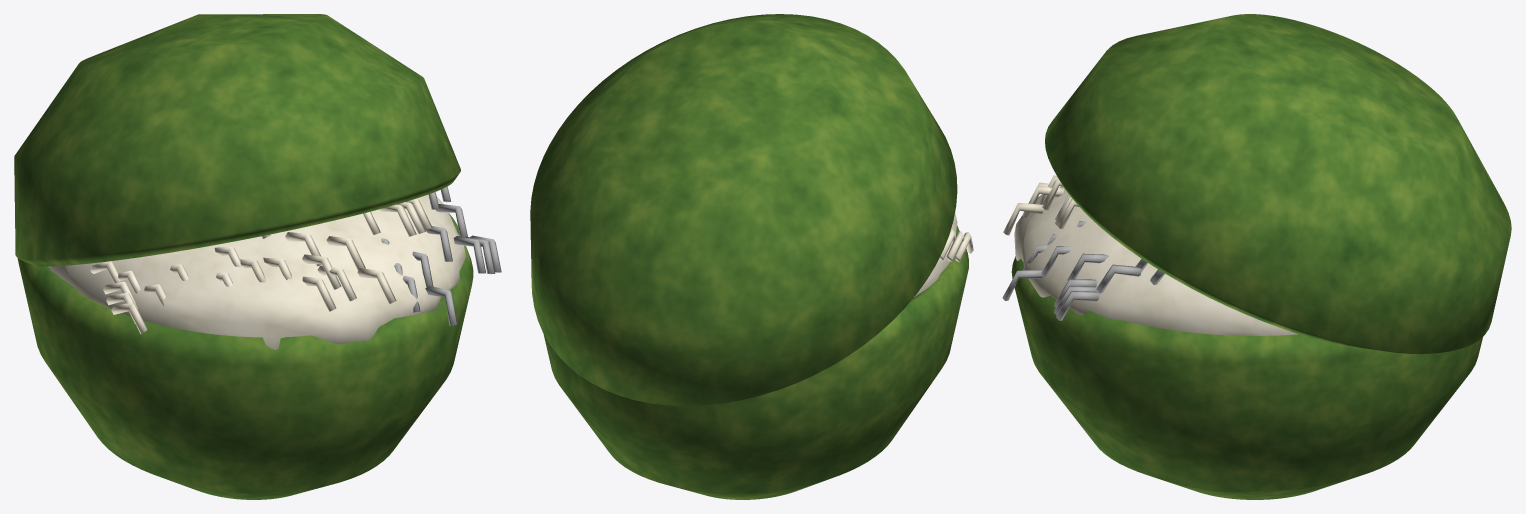
The model's file is dulce_limon_relleno.gltf.
3 views of the same model, side by side, from view 1: azimuth 30°, elevation 25°; view 2: azimuth 150°, elevation 25°; view 3: azimuth 270°, elevation 25° (orthographic). The views are drawn at different scales.
Visible parts, largest first — view 1: cascara_superior, cascara_inferior, relleno_coco, relleno_coco_fibras, relleno_coco_fibras.001; view 2: cascara_superior, cascara_inferior, relleno_coco_fibras, relleno_coco; view 3: cascara_superior, cascara_inferior, relleno_coco, relleno_coco_fibras.001, relleno_coco_fibras.
Part boxes in pixels (bbox=[...]): cascara_superior: bbox=[14, 14, 460, 266]; cascara_inferior: bbox=[17, 213, 473, 499]; relleno_coco: bbox=[48, 194, 465, 349]; relleno_coco_fibras: bbox=[90, 198, 432, 333]; relleno_coco_fibras.001: bbox=[381, 186, 501, 325]; cascara_superior: bbox=[530, 14, 957, 405]; cascara_inferior: bbox=[543, 225, 968, 499]; relleno_coco_fibras: bbox=[940, 223, 973, 262]; relleno_coco: bbox=[914, 212, 957, 297]; cascara_superior: bbox=[1045, 14, 1511, 354]; cascara_inferior: bbox=[1011, 256, 1482, 499]; relleno_coco: bbox=[1014, 186, 1297, 335]; relleno_coco_fibras.001: bbox=[1002, 221, 1164, 320]; relleno_coco_fibras: bbox=[1003, 175, 1078, 235].
Bounding box in the file's own units: 0.05 × 0.0563 × 0.0591.
Materials: 4 (3 with a texture image).
